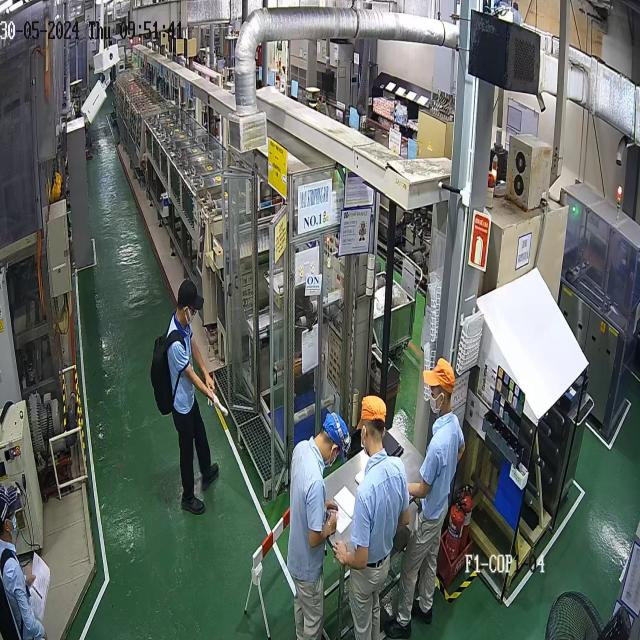Person: (384, 357, 465, 639), (333, 394, 411, 639), (286, 408, 351, 639), (164, 278, 219, 515), (0, 484, 47, 640)
